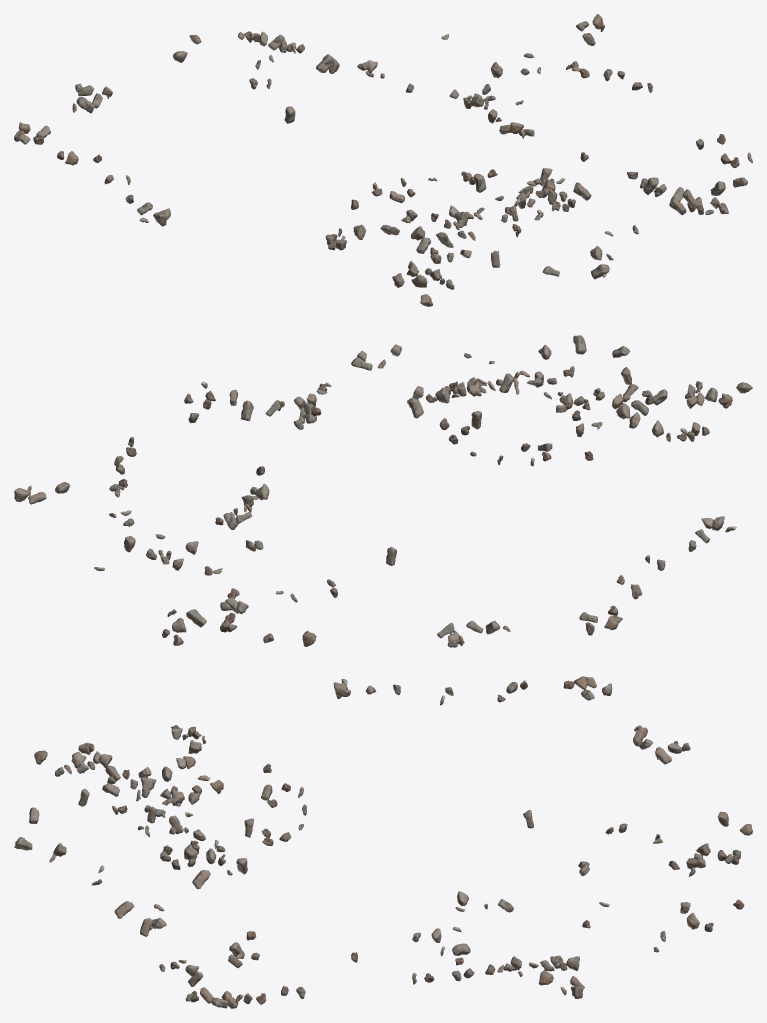
Rendered from stone1.glb.
The picture shows the model from 3 angles, top to bottom: view 1: azimuth 30°, elevation 25°; view 2: azimuth 150°, elevation 25°; view 3: azimuth 270°, elevation 25°; orthographic projection. The views are drawn at different scales.
Parts seen in each view (by area): view 1: Aset_stone_rough_S_udmhajrva_00_LOD5.003; view 2: Aset_stone_rough_S_udmhajrva_00_LOD5.003; view 3: Aset_stone_rough_S_udmhajrva_00_LOD5.003.
Part boxes in pixels (x1,y1,x2,y2): Aset_stone_rough_S_udmhajrva_00_LOD5.003: (14,14,752,306); Aset_stone_rough_S_udmhajrva_00_LOD5.003: (14,335,752,647); Aset_stone_rough_S_udmhajrva_00_LOD5.003: (14,676,752,1008).
Bounding box in the file's own units: 30.14 × 4.19 × 32.15.
Materials: 1 (1 with a texture image).
